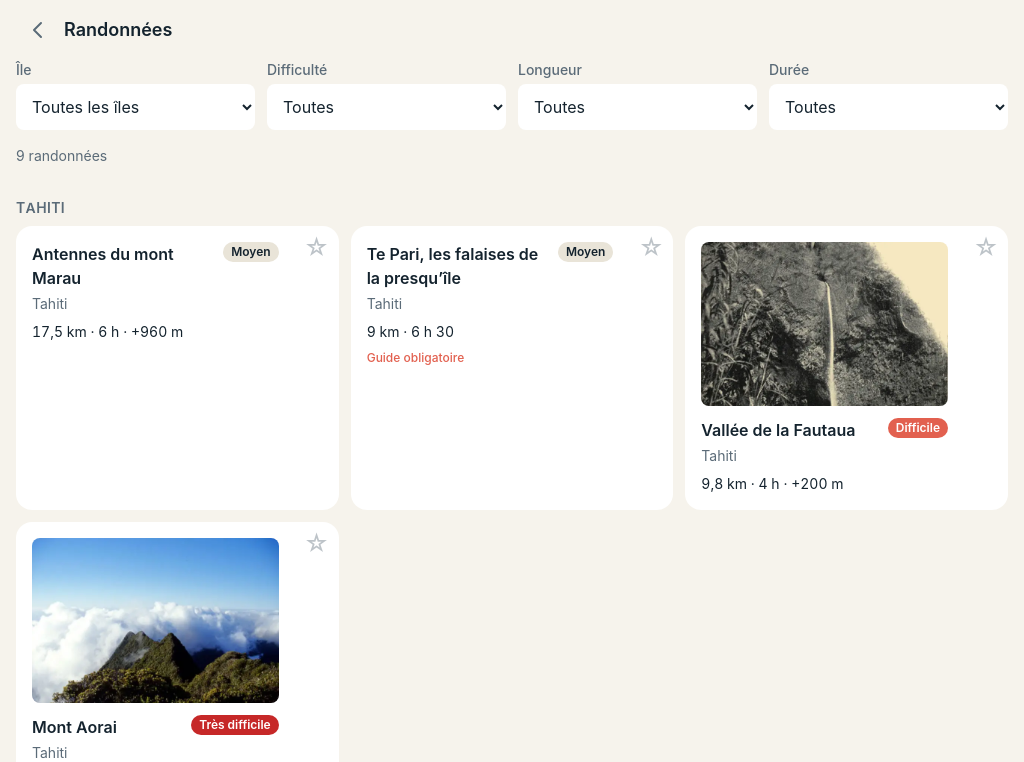
Test: HikesComponent › remonte les randonnées mises de côté en tête
Click the button "☆" in the row of "Antennes du mont Marau".
click(317, 248)  # box [295,226,339,270]
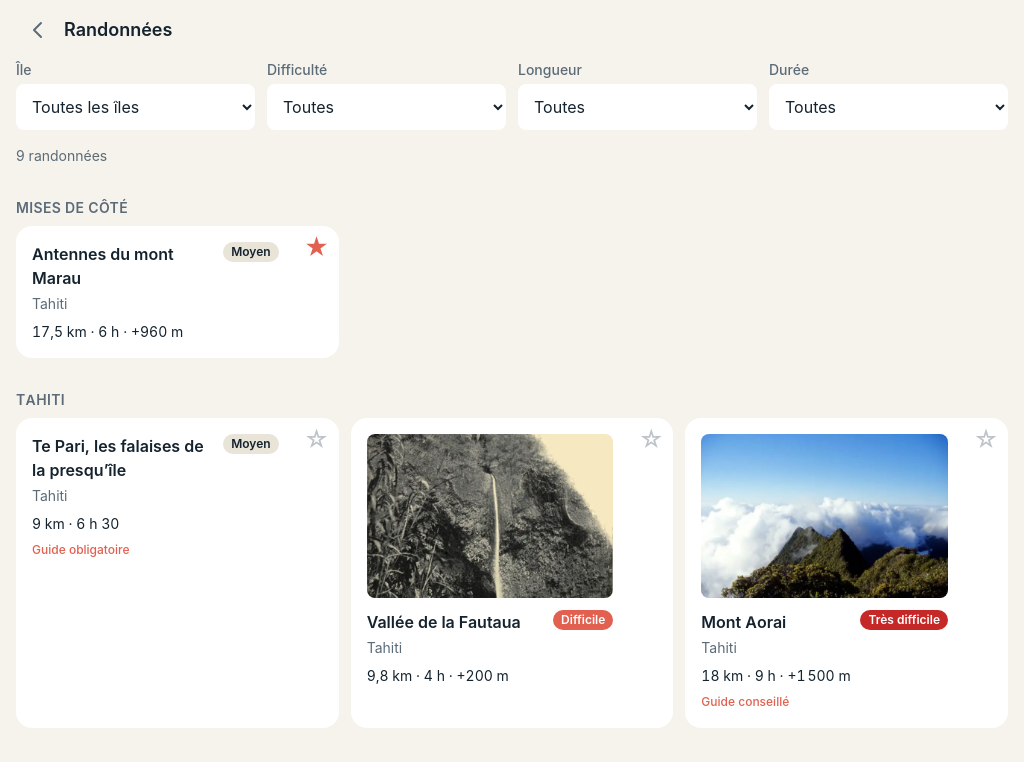
Check: the text "Mises de côté" is shown, box [16,199,128,216]
